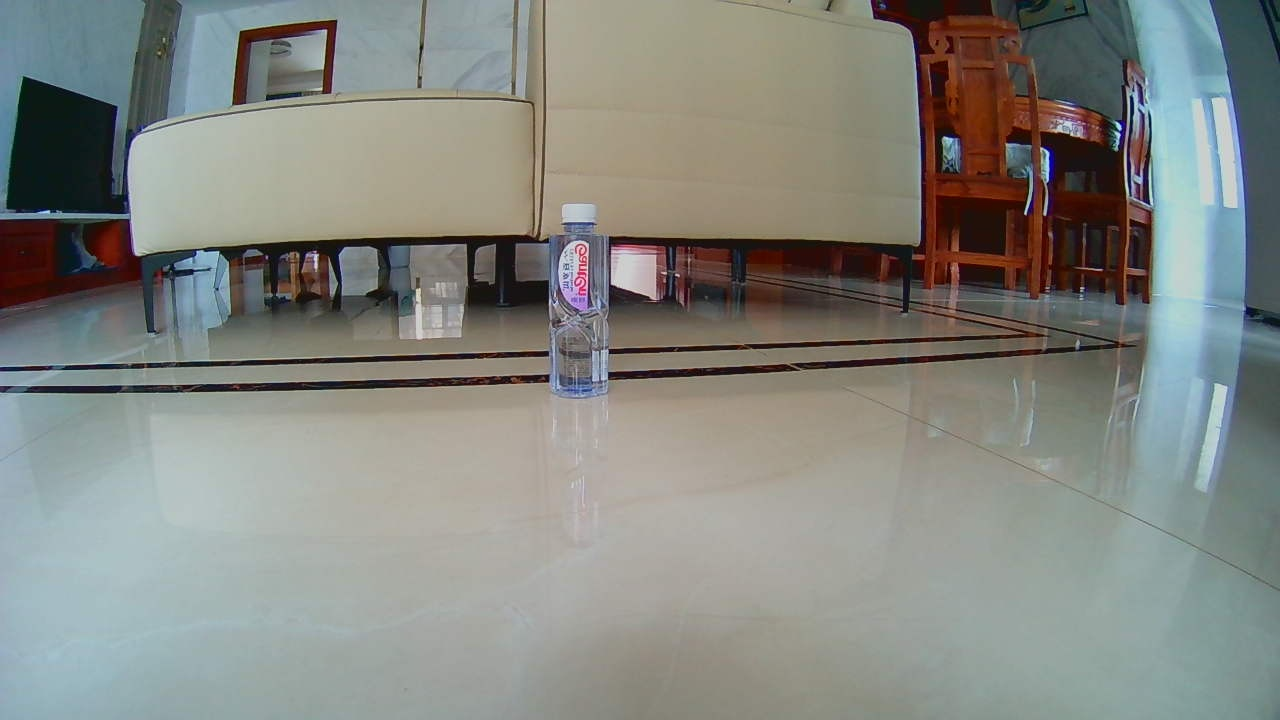water: (547, 201, 611, 392)
